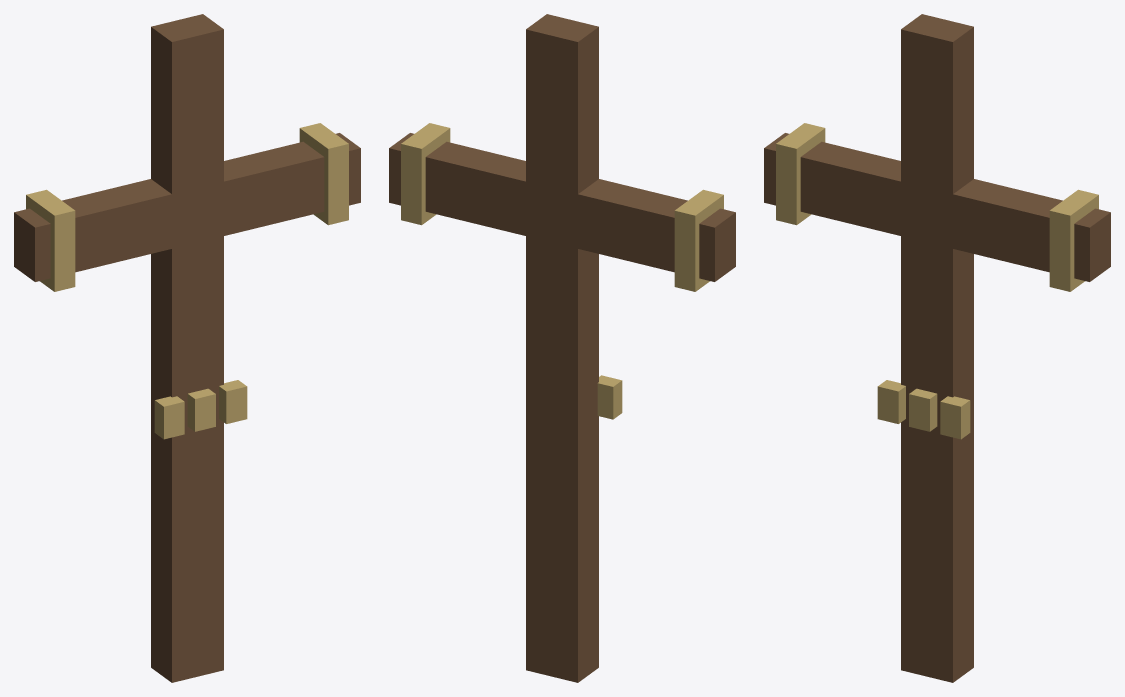
Rendered from blender_crucifix_2.glb.
The picture shows the model from 3 angles, left to right: view 1: azimuth 30°, elevation 25°; view 2: azimuth 150°, elevation 25°; view 3: azimuth 330°, elevation 25°; orthographic projection.
Parts seen in each view (by area): view 1: blender_crucifix_2; view 2: blender_crucifix_2; view 3: blender_crucifix_2.
Boxes of the visible parts, <box> form: blender_crucifix_2: <box>14,14,360,682</box>; blender_crucifix_2: <box>389,14,735,682</box>; blender_crucifix_2: <box>764,14,1110,682</box>.
Bounding box in the file's own units: 0.125 × 0.235 × 0.0215.
Materials: 1 (1 with a texture image).
